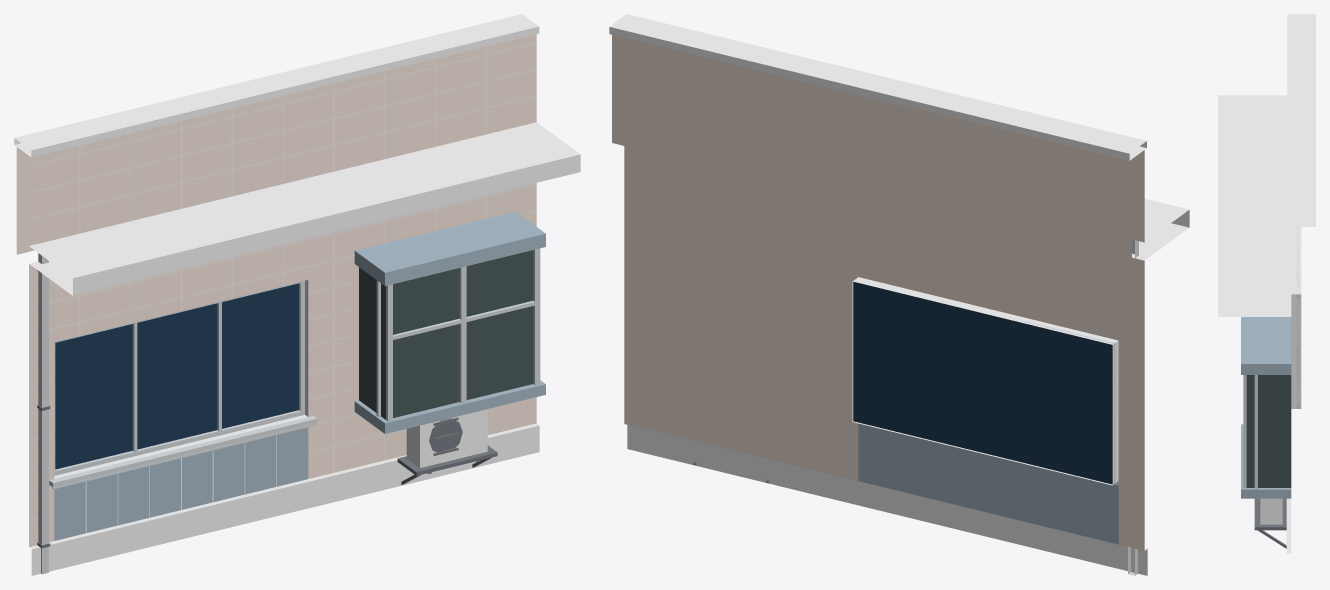
Rendered from top-w1_close.fbx.
3 renders of one model, left to right at view 1: azimuth 30°, elevation 25°; view 2: azimuth 150°, elevation 25°; view 3: azimuth 270°, elevation 25°, orthographic. The views are drawn at different scales.
Parts seen in each view (by area): view 1: a2011/300/top-w1_close; view 2: a2011/300/top-w1_close; view 3: a2011/300/top-w1_close.
Boxes of the visible parts, x1,y1,x2,y2 form: a2011/300/top-w1_close: [14, 14, 580, 575]; a2011/300/top-w1_close: [609, 14, 1189, 575]; a2011/300/top-w1_close: [1218, 14, 1315, 553].
Size of the model in its own units: 6 by 4.8 by 1.2.
